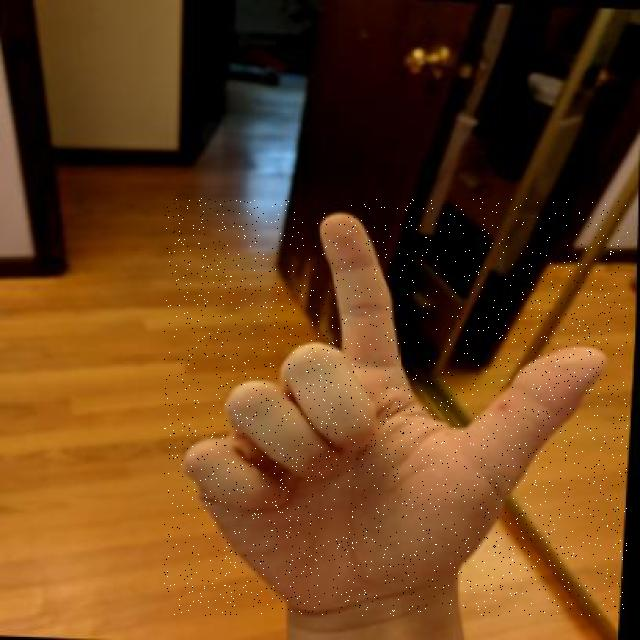L: (164, 198, 628, 616)
